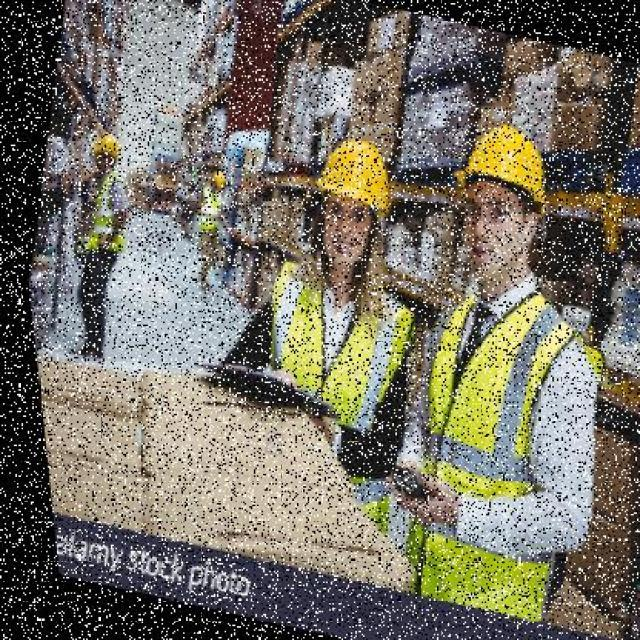helmet: (437, 114, 568, 232), (295, 125, 407, 222), (80, 126, 126, 168), (195, 160, 231, 198)
vest: (368, 277, 633, 623), (231, 251, 435, 467), (68, 168, 140, 265), (183, 180, 228, 242)
